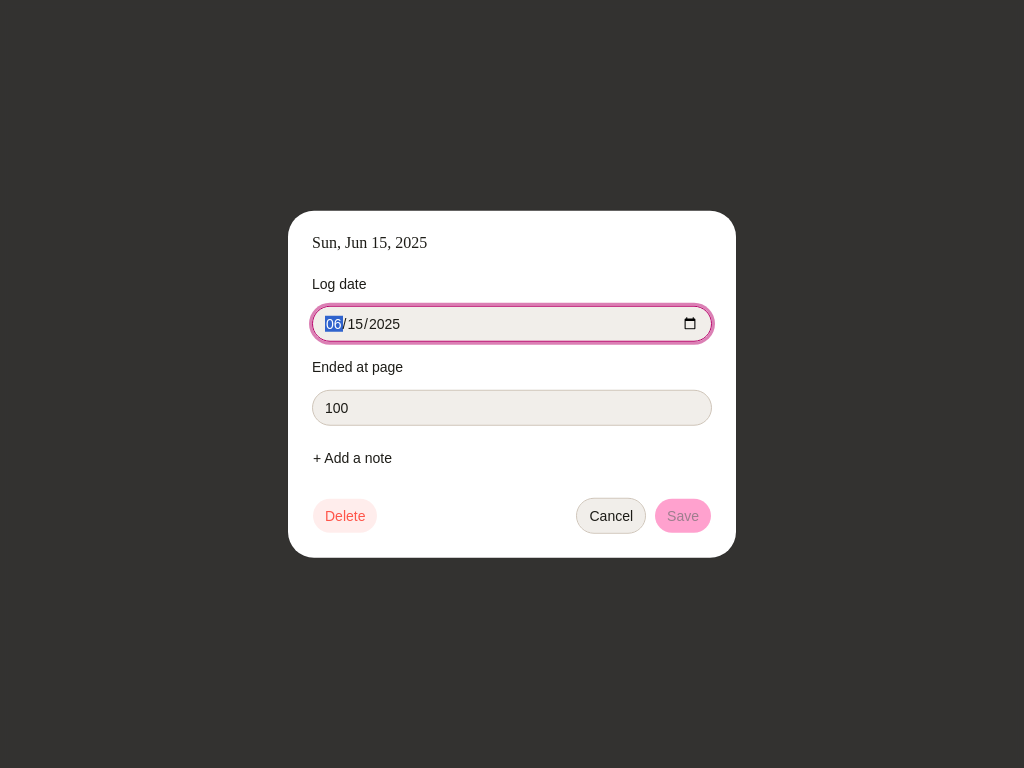
Scenario: EntryEditSheet › rejects a position at or below the entry’s own start
This screenshot has width=1024, height=768.
Replace the text in the field labelled "Ended at page" with "40" at [512, 407], box [312,389,712,425]
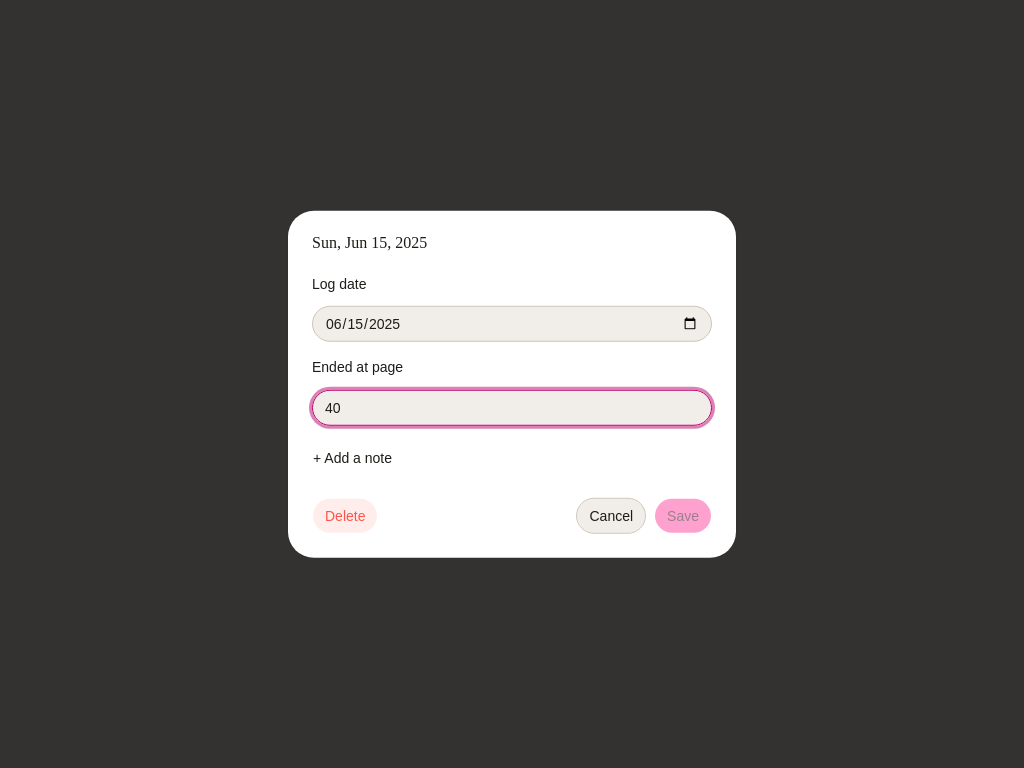
Press Tab
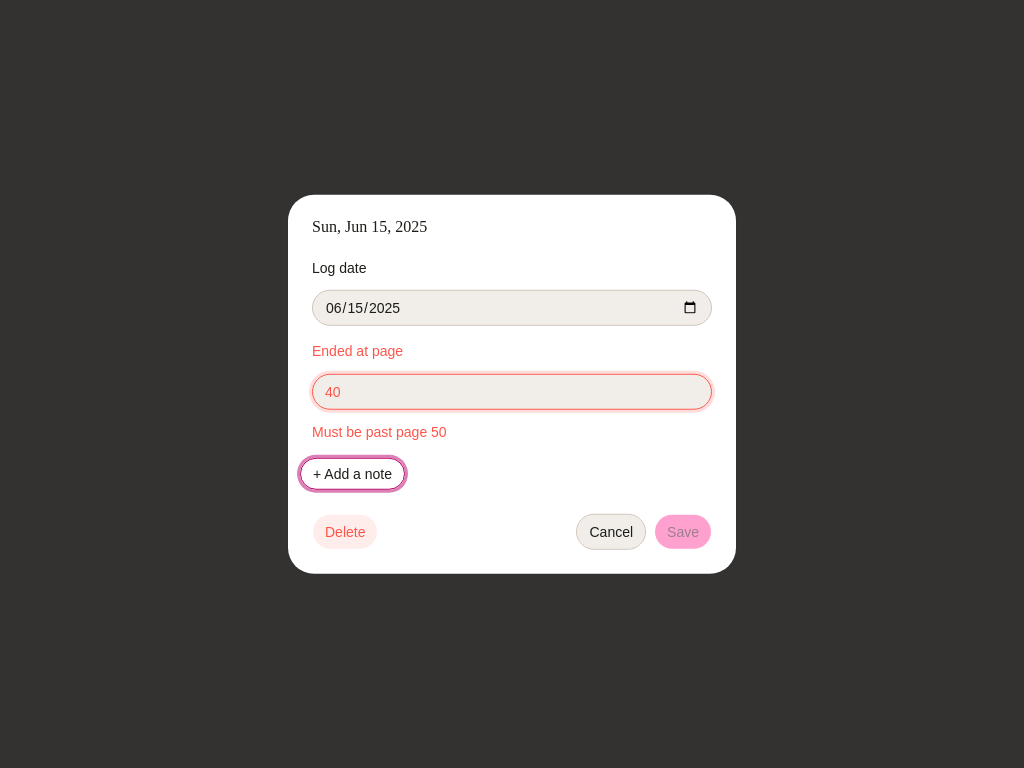
Check: the button "Save" is disabled, box [654,513,712,549]
Check: the text "Must be past page 50" is shown, box [312,423,447,439]
